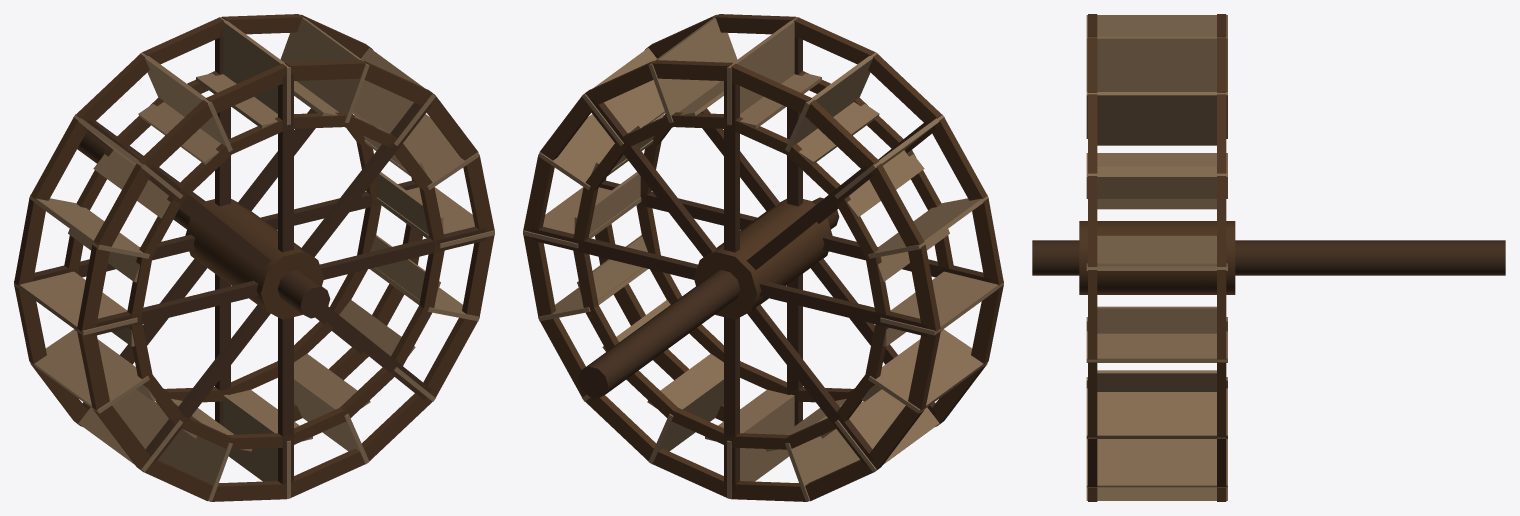
File: SM_Millbrook_MillWheel_NoCol.fbx
3 renders of one model, left to right at view 1: azimuth 30°, elevation 25°; view 2: azimuth 150°, elevation 25°; view 3: azimuth 270°, elevation 25°, orthographic. The views are drawn at different scales.
Parts seen in each view (by area): view 1: SM_Millbrook_MillWheel_NoCol; view 2: SM_Millbrook_MillWheel_NoCol; view 3: SM_Millbrook_MillWheel_NoCol.
Part boxes in pixels (x1,y1,x2,y2): SM_Millbrook_MillWheel_NoCol: (14, 14, 494, 501); SM_Millbrook_MillWheel_NoCol: (523, 14, 1003, 501); SM_Millbrook_MillWheel_NoCol: (1032, 14, 1505, 501).
Size of the model in its own units: 4.7 by 4.7 by 4.55.
